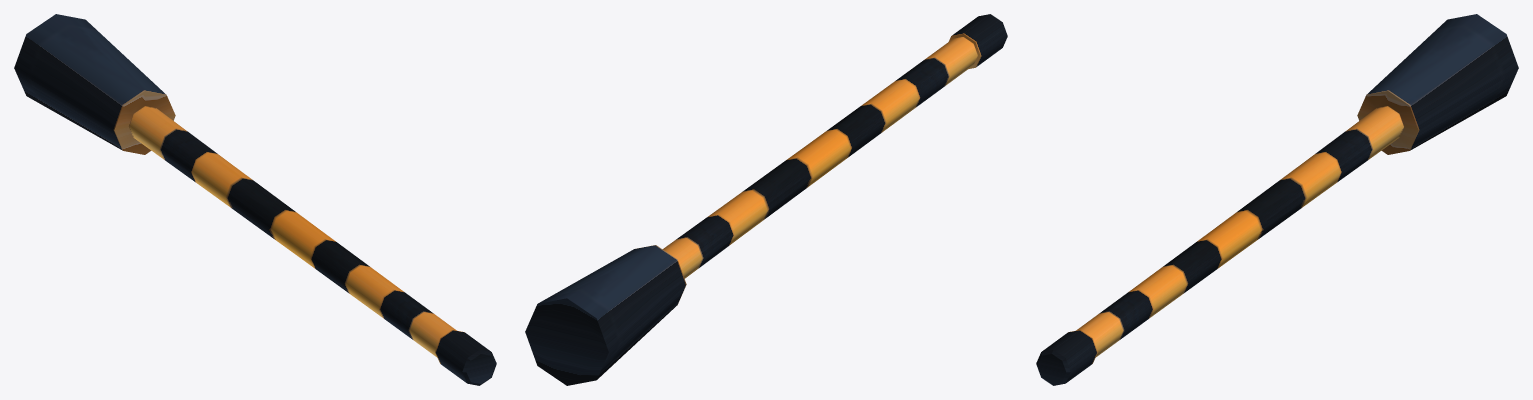
The model's file is traingate.FBX.
3 renders of one model, left to right at view 1: azimuth 30°, elevation 25°; view 2: azimuth 150°, elevation 25°; view 3: azimuth 330°, elevation 25°, orthographic.
Parts seen in each view (by area): view 1: traingate; view 2: traingate; view 3: traingate.
Boxes of the visible parts, x1=… form: traingate: x1=14, y1=14, x2=496, y2=385; traingate: x1=525, y1=14, x2=1007, y2=385; traingate: x1=1036, y1=14, x2=1518, y2=385.
Bounding box in the file's own units: 11.57 × 11.57 × 102.
Materials: 1 (1 with a texture image).
